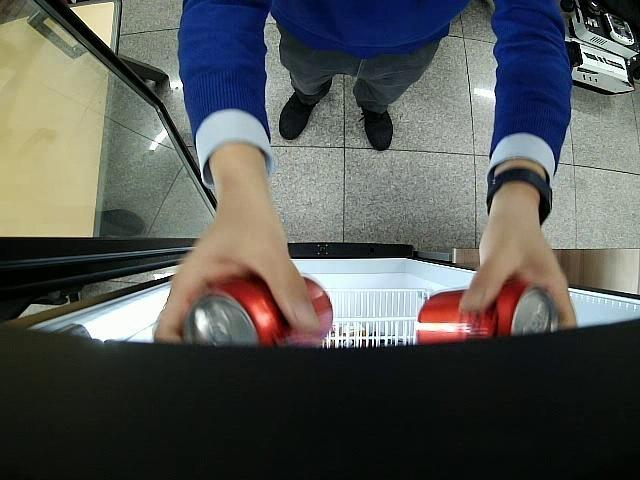11_cocaColaZero: (180, 273, 332, 347), (416, 280, 560, 341)
